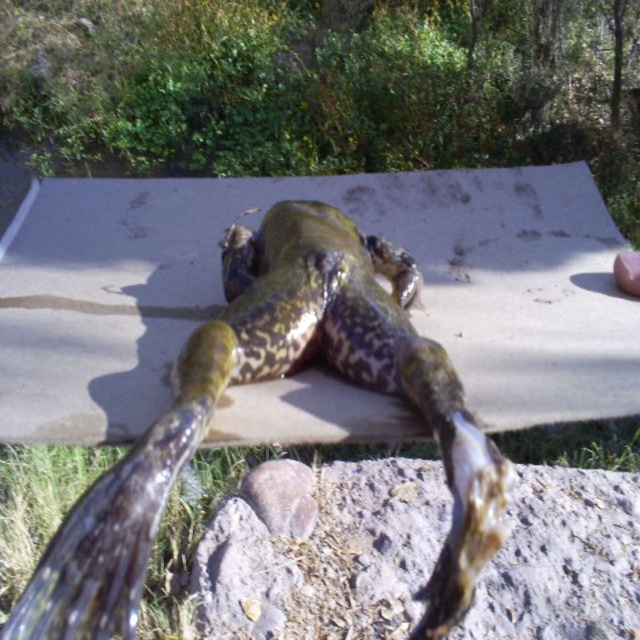Frog: (1, 200, 515, 639)
